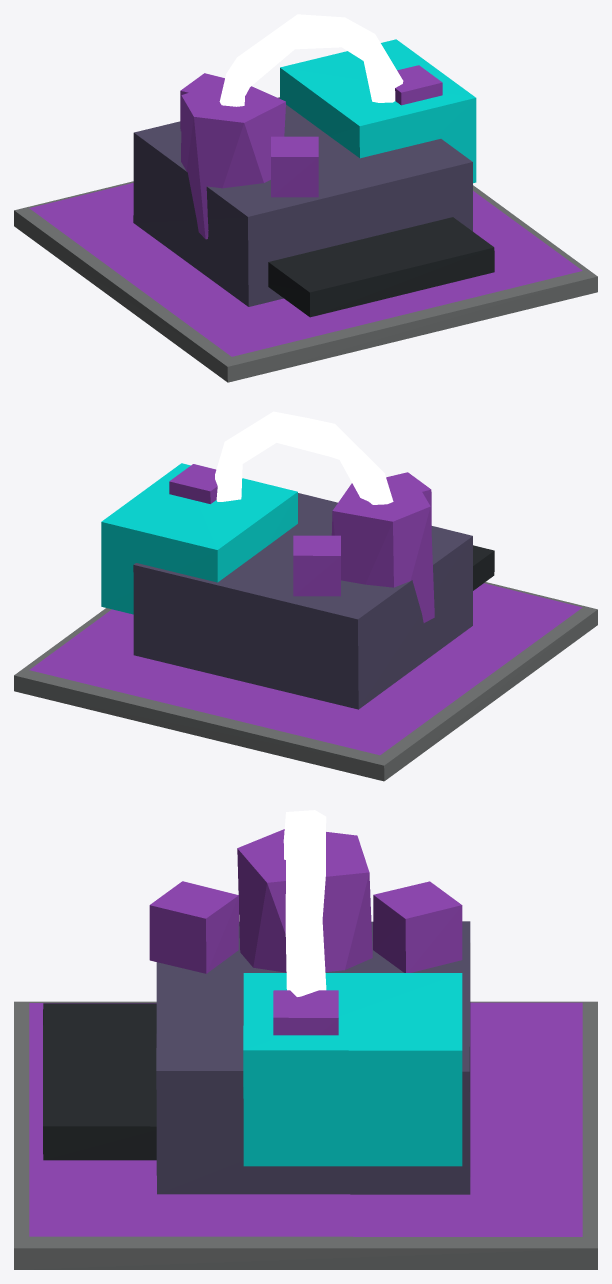
Rendered from SM_Chronolegion_CH_Refinery_LOD3.fbx.
3 views of the same model, one above another, from view 1: azimuth 30°, elevation 25°; view 2: azimuth 150°, elevation 25°; view 3: azimuth 270°, elevation 25° (orthographic). The views are drawn at different scales.
Visible parts, largest first — view 1: LOD03_SM_Chronolegion_CH_Refinery; view 2: LOD03_SM_Chronolegion_CH_Refinery; view 3: LOD03_SM_Chronolegion_CH_Refinery.
Part boxes in pixels (x1,y1,x2,y2): LOD03_SM_Chronolegion_CH_Refinery: (14,14,597,382); LOD03_SM_Chronolegion_CH_Refinery: (14,411,597,781); LOD03_SM_Chronolegion_CH_Refinery: (14,810,597,1269).
Size of the model in its own units: 797 by 797 by 501.
